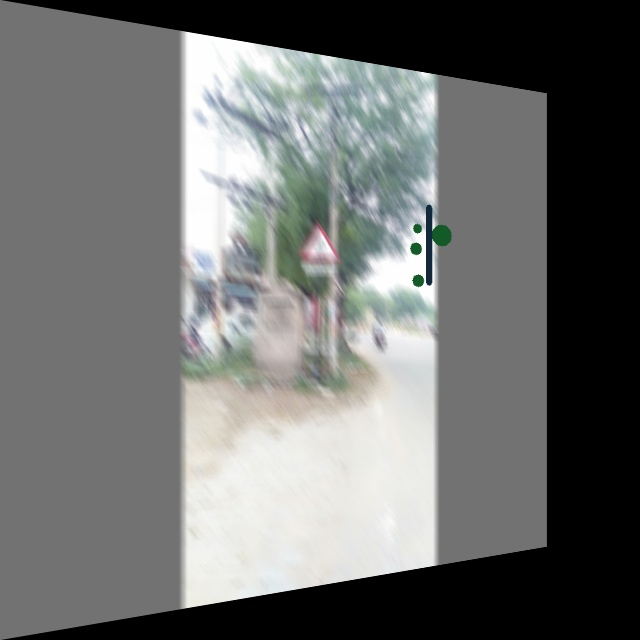Narrow_Road_Ahead: (300, 222, 337, 260)
